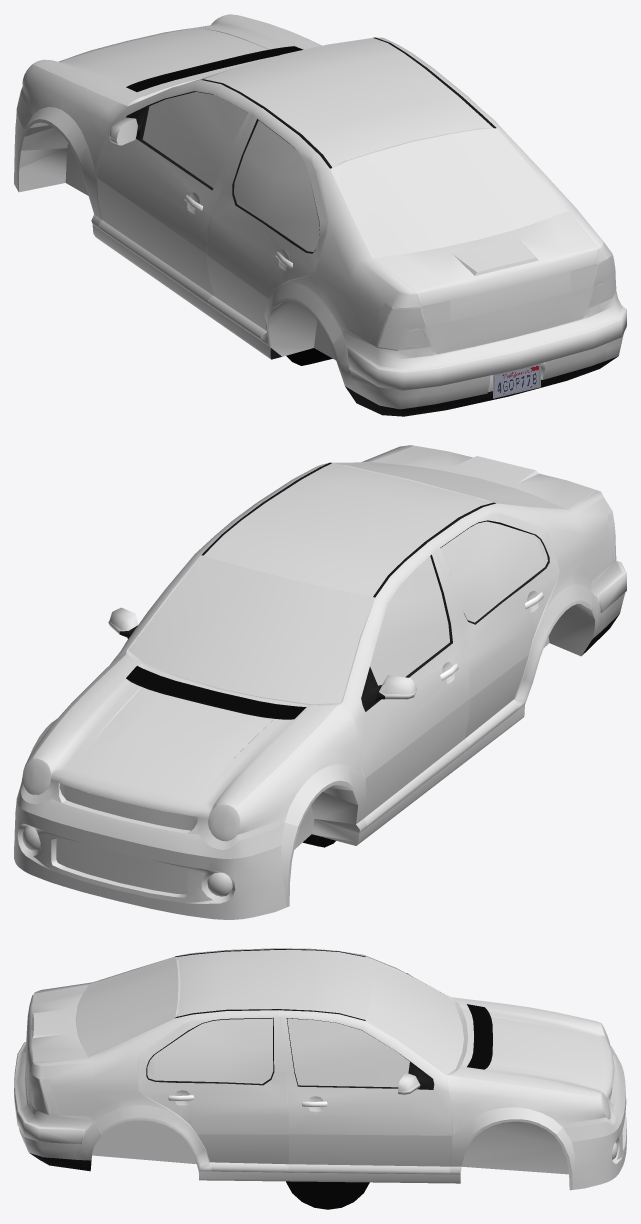
Rendered from MCLA_VA_VW_JETTA_03.glb.
3 views of the same model, one above another, from view 1: azimuth 30°, elevation 25°; view 2: azimuth 150°, elevation 25°; view 3: azimuth 270°, elevation 25° (orthographic). The views are drawn at different scales.
Visible parts, largest first — view 1: va_vw_jetta_03/resources/vehicle/va_vw_jetta_03/body_lod_0.x; view 2: va_vw_jetta_03/resources/vehicle/va_vw_jetta_03/body_lod_0.x; view 3: va_vw_jetta_03/resources/vehicle/va_vw_jetta_03/body_lod_0.x.
Boxes of the visible parts, x1,y1,x2,y2 form: va_vw_jetta_03/resources/vehicle/va_vw_jetta_03/body_lod_0.x: (14, 14, 626, 416); va_vw_jetta_03/resources/vehicle/va_vw_jetta_03/body_lod_0.x: (14, 445, 626, 919); va_vw_jetta_03/resources/vehicle/va_vw_jetta_03/body_lod_0.x: (14, 948, 626, 1209).
Size of the model in its own units: 1.9 by 1.76 by 4.37.
12 materials, 8 textured.
